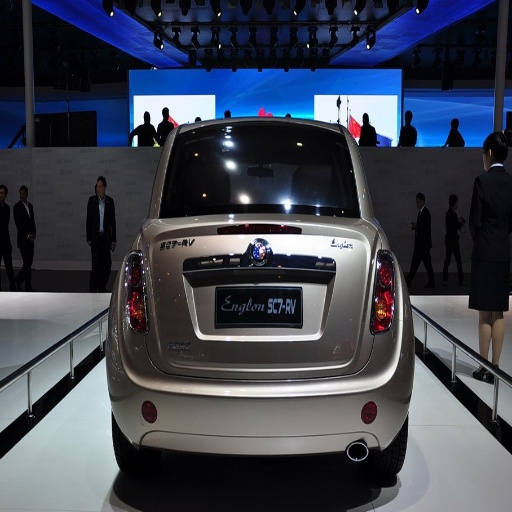back_bumper: (110, 330, 411, 492)
tailgate: (145, 218, 347, 382)
trunk: (197, 218, 380, 376)
